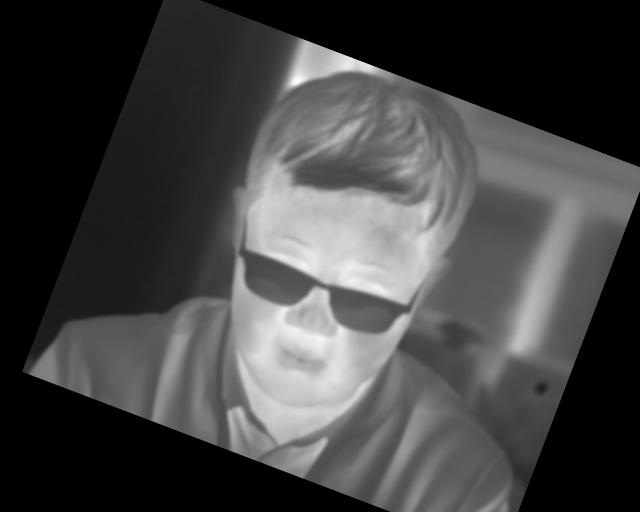face: (165, 37, 505, 443)
